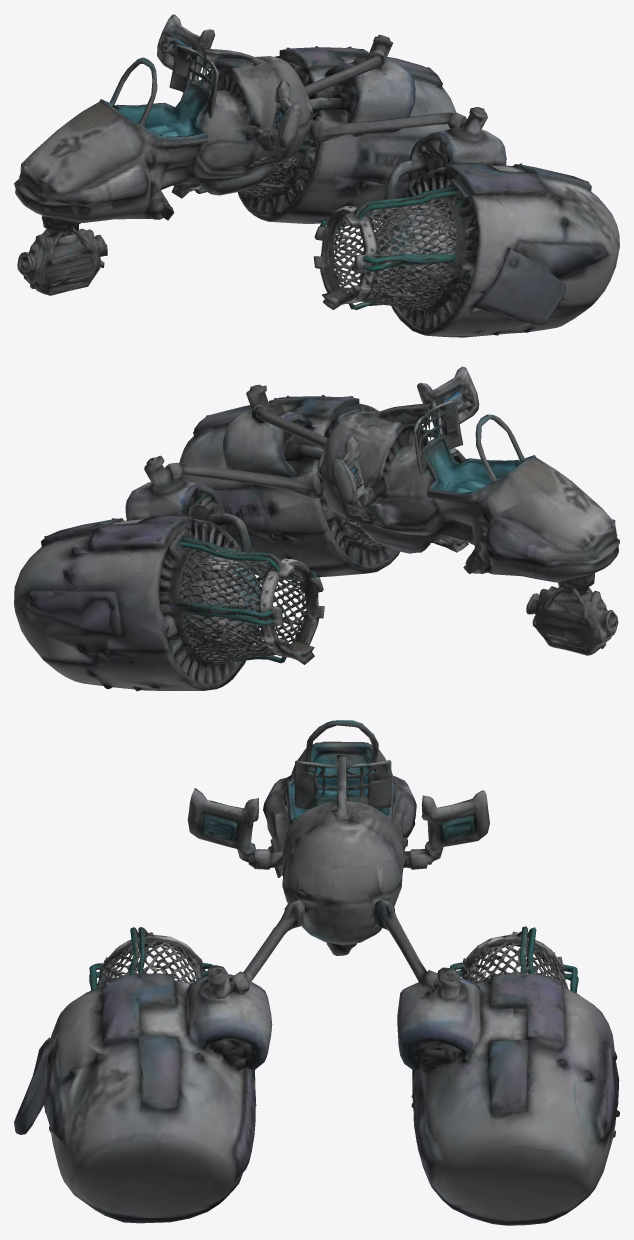
Rendered from pod-twin.glb.
3 views of the same model, one above another, from view 1: azimuth 30°, elevation 25°; view 2: azimuth 150°, elevation 25°; view 3: azimuth 270°, elevation 25° (orthographic). The views are drawn at different scales.
Visible parts, largest first — view 1: mesh_node; view 2: mesh_node; view 3: mesh_node.
Part boxes in pixels (box(x1,y1,x2,y2)): mesh_node: box(14, 14, 619, 337); mesh_node: box(14, 366, 619, 691); mesh_node: box(14, 720, 619, 1225).
Bounding box in the file's own units: 1.9 × 1.01 × 1.7.
1 material, 1 textured.
